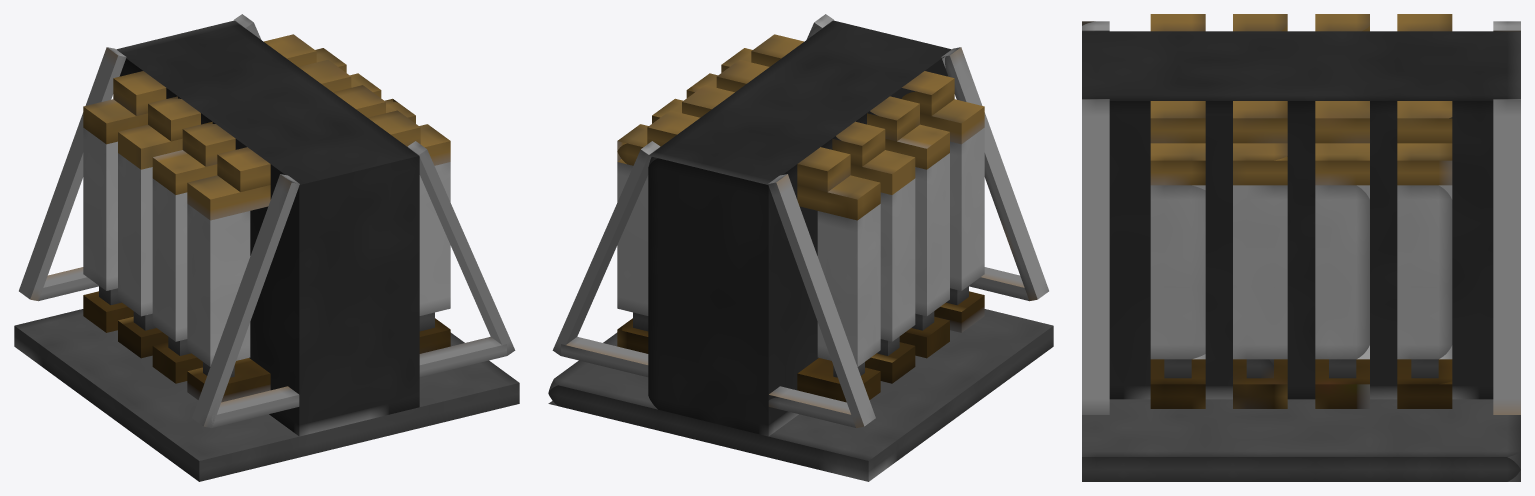
The model's file is chemicalExtractor.obj.
3 views of the same model, side by side, from view 1: azimuth 30°, elevation 25°; view 2: azimuth 150°, elevation 25°; view 3: azimuth 270°, elevation 25° (orthographic). The views are drawn at different scales.
Visible parts, largest first — view 1: cube; view 2: cube; view 3: cube.
Boxes of the visible parts, <box> form: cube: <box>14,14,519,481</box>; cube: <box>548,14,1053,481</box>; cube: <box>1082,14,1520,481</box>.
Size of the model in its own units: 16 by 13.22 by 16.
